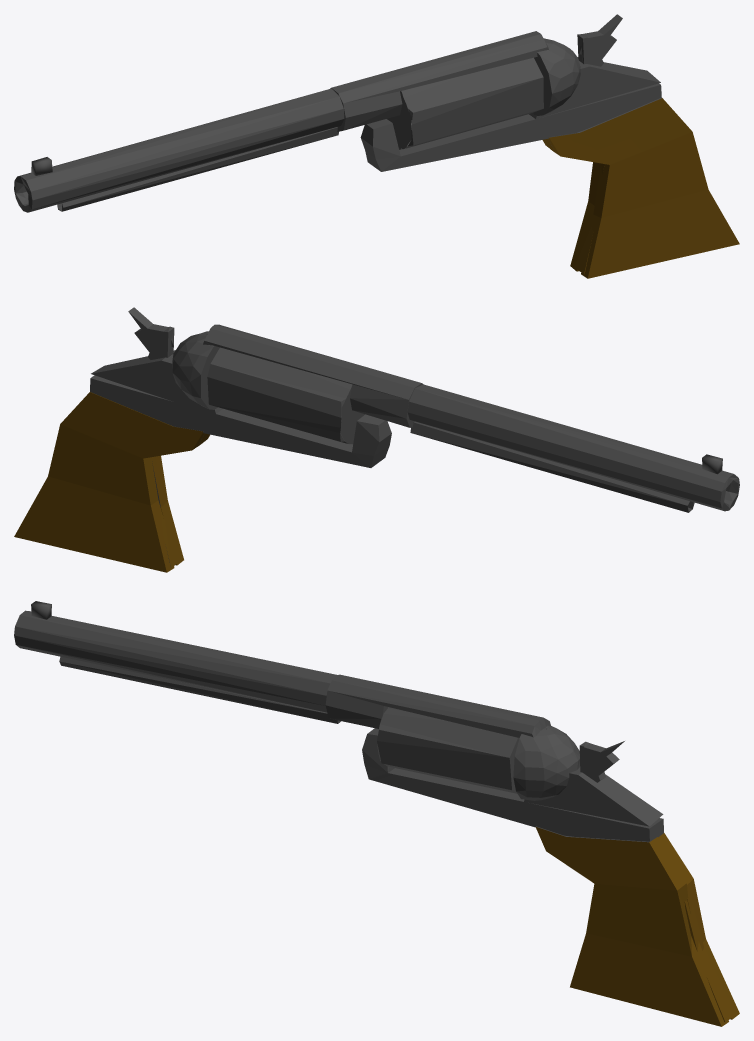
The model's file is Pistol.gltf.
3 views of the same model, one above another, from view 1: azimuth 30°, elevation 25°; view 2: azimuth 150°, elevation 25°; view 3: azimuth 330°, elevation 25° (orthographic).
Parts seen in each view (by area): view 1: Gun1; view 2: Gun1; view 3: Gun1.
Part boxes in pixels (<box>): Gun1: <box>14,14,739,278</box>; Gun1: <box>14,307,739,572</box>; Gun1: <box>14,601,739,1026</box>.
Bounding box in the file's own units: 0.4299 × 0.1457 × 0.0414.
